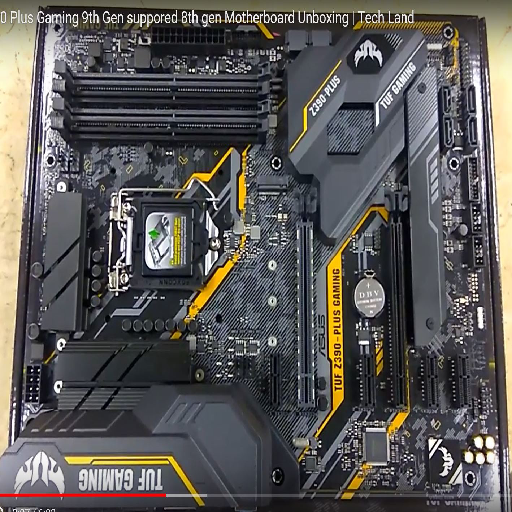CPU: (120, 195, 221, 290)
GPU: (291, 187, 325, 410), (382, 185, 411, 410)
MOTHERBOARD: (6, 8, 507, 512)
RAM: (51, 60, 279, 145)
SSD: (255, 174, 289, 200)
